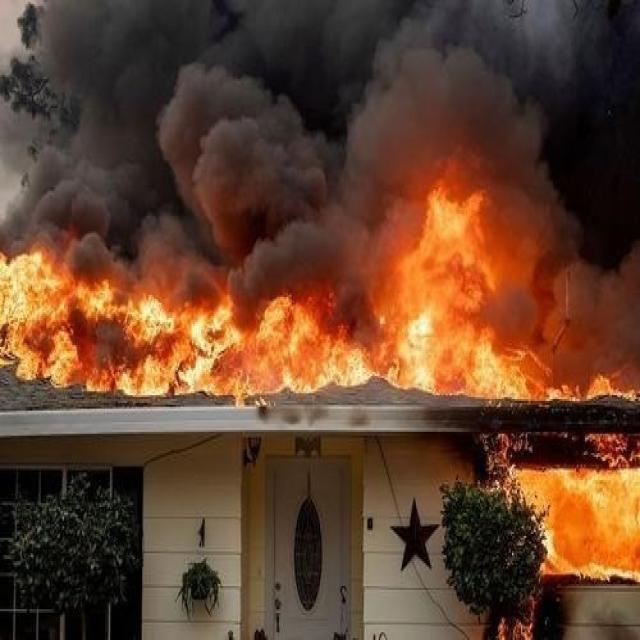Fire: (1, 193, 638, 403), (478, 430, 640, 640)
Smoke: (1, 2, 640, 178)
